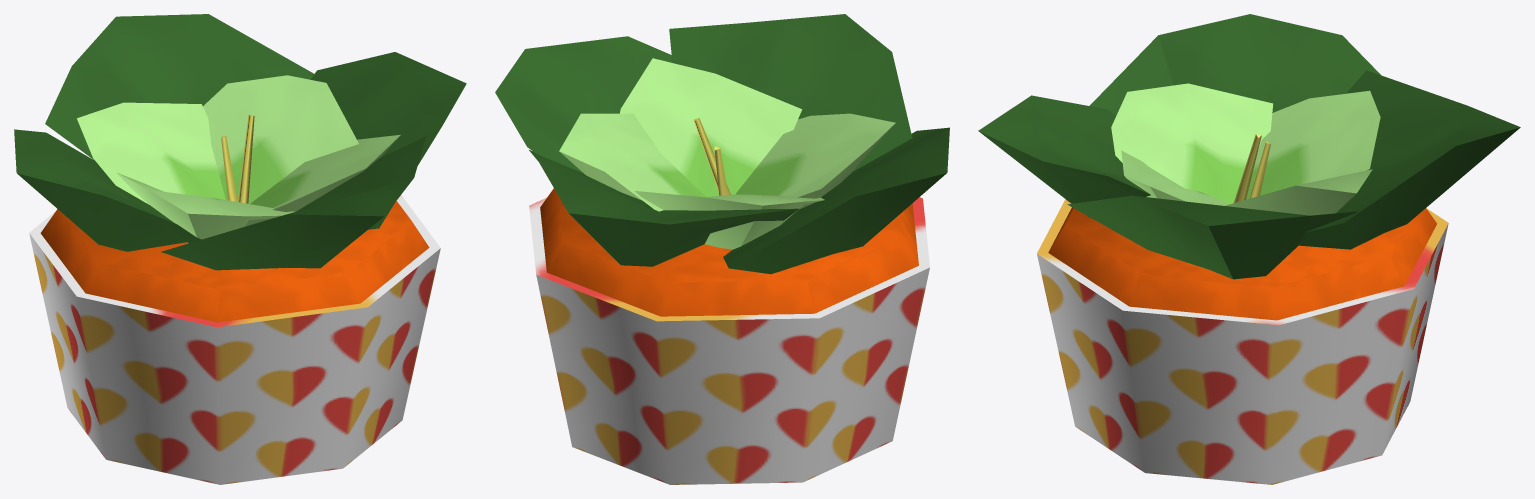
The model's file is Cupcake_B_9.FBX.
3 views of the same model, side by side, from view 1: azimuth 30°, elevation 25°; view 2: azimuth 150°, elevation 25°; view 3: azimuth 270°, elevation 25° (orthographic). The views are drawn at different scales.
Visible parts, largest first — view 1: Cupcake_B; view 2: Cupcake_B; view 3: Cupcake_B.
Part boxes in pixels (x1=…): Cupcake_B: x1=14, y1=14, x2=466, y2=484; Cupcake_B: x1=495, y1=14, x2=949, y2=484; Cupcake_B: x1=978, y1=14, x2=1520, y2=484.
Size of the model in its own units: 38.73 by 26.15 by 41.87.
